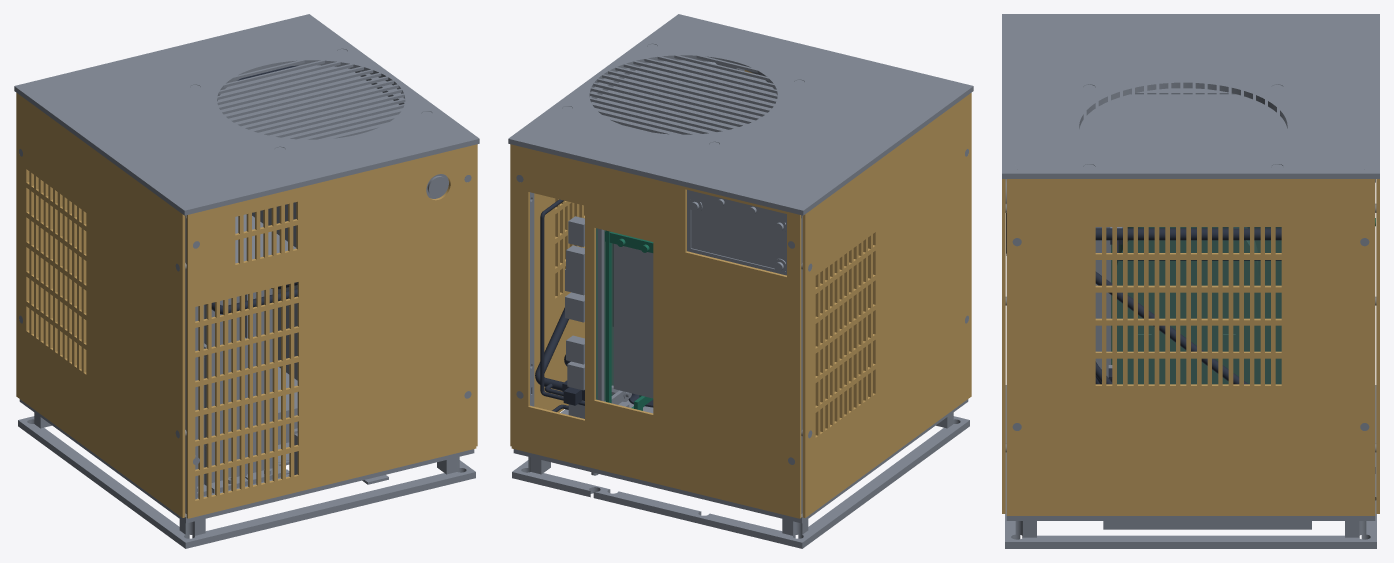
The model's file is kiwinest-r6-public.glb.
3 renders of one model, left to right at view 1: azimuth 30°, elevation 25°; view 2: azimuth 150°, elevation 25°; view 3: azimuth 270°, elevation 25°, orthographic. The views are drawn at different scales.
Visible parts, largest first — view 1: SKIN_R6_front, SKIN_R6_left, TOP_R6_lid, FRAME_R6_feet20, top_fan_body, FRAME_R6_base, R6_drive_2, R6_drive_3, PSU_R6_isolated_cold_sleeve_and_wire_gutter_BASE, FRAME_R6_corner_10_10, gpu_body, SKIN_R6_right (+1 smaller); view 2: SKIN_R6_back, SKIN_R6_left, TOP_R6_lid, FRAME_R6_feet20, SKIN_R6_right, gpu_body, PSU_R6_ENP7660B_ORIGINAL_FIXED_BODY_REFERENCE, top_fan_body, FRAME_R6_base, PSU_R6_REPLACEABLE_1mm_METAL_FLANGE_NOT_PRINT, GPU_R6_fixed_open_spine, MAINBOARD_MOUNT_R6_DS2501_open_tray (+5 smaller); view 3: SKIN_R6_right, TOP_R6_lid, top_fan_body, FRAME_R6_feet20, CPU_DS2501_stock_round_copper_25mm_TOTAL_PHOTO_PROXY, FRAME_R6_base, mini_itx_pcb, RAM_DS2501_DDR4_SODIMM_EXISTING_2_PHOTO_PROXY, GPU8_R6_Phanteks_fixed_extension_route, SKIN_R6_front, SKIN_R6_back, SSD_DS2501_front_M2_2280_2_PHOTO_PROXY (+2 smaller).
Boxes of the visible parts, x1,y1,x2,y2 form: SKIN_R6_front: (186,144,476,518); SKIN_R6_left: (16,93,185,517); TOP_R6_lid: (14,14,479,215); FRAME_R6_feet20: (18,412,475,548); top_fan_body: (217,65,402,139); FRAME_R6_base: (19,399,474,523); R6_drive_2: (204,296,239,482); R6_drive_3: (245,288,272,474); PSU_R6_isolated_cold_sleeve_and_wire_gutter_BASE: (235,202,296,263); FRAME_R6_corner_10_10: (185,218,196,513); gpu_body: (278,285,297,380); SKIN_R6_right: (476,144,477,446); SKIN_R6_back: (511,144,801,518); SKIN_R6_left: (802,93,971,517); TOP_R6_lid: (508,14,973,215); FRAME_R6_feet20: (512,412,969,548); SKIN_R6_right: (510,144,584,446); gpu_body: (613,244,653,398); PSU_R6_ENP7660B_ORIGINAL_FIXED_BODY_REFERENCE: (691,202,785,268); top_fan_body: (591,60,776,134); FRAME_R6_base: (513,399,968,523); PSU_R6_REPLACEABLE_1mm_METAL_FLANGE_NOT_PRINT: (687,190,786,275); GPU_R6_fixed_open_spine: (605,230,653,408); MAINBOARD_MOUNT_R6_DS2501_open_tray: (598,68,744,407); SKIN_R6_right: (1006,179,1375,515); TOP_R6_lid: (1002,14,1379,178); top_fan_body: (1079,94,1287,170); FRAME_R6_feet20: (1005,385,1376,548); CPU_DS2501_stock_round_copper_25mm_TOTAL_PHOTO_PROXY: (1117,227,1259,342); FRAME_R6_base: (1006,516,1375,529); mini_itx_pcb: (1111,227,1281,384); RAM_DS2501_DDR4_SODIMM_EXISTING_2_PHOTO_PROXY: (1138,334,1235,375); GPU8_R6_Phanteks_fixed_extension_route: (1095,228,1281,240); SKIN_R6_front: (1002,179,1005,513); SKIN_R6_back: (1376,179,1379,513); SSD_DS2501_front_M2_2280_2_PHOTO_PROXY: (1265,260,1281,364).
Size of the model in its own units: 250 by 275 by 250.
